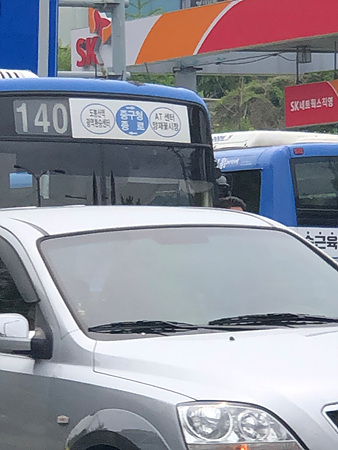bnum: (13, 96, 70, 135)
